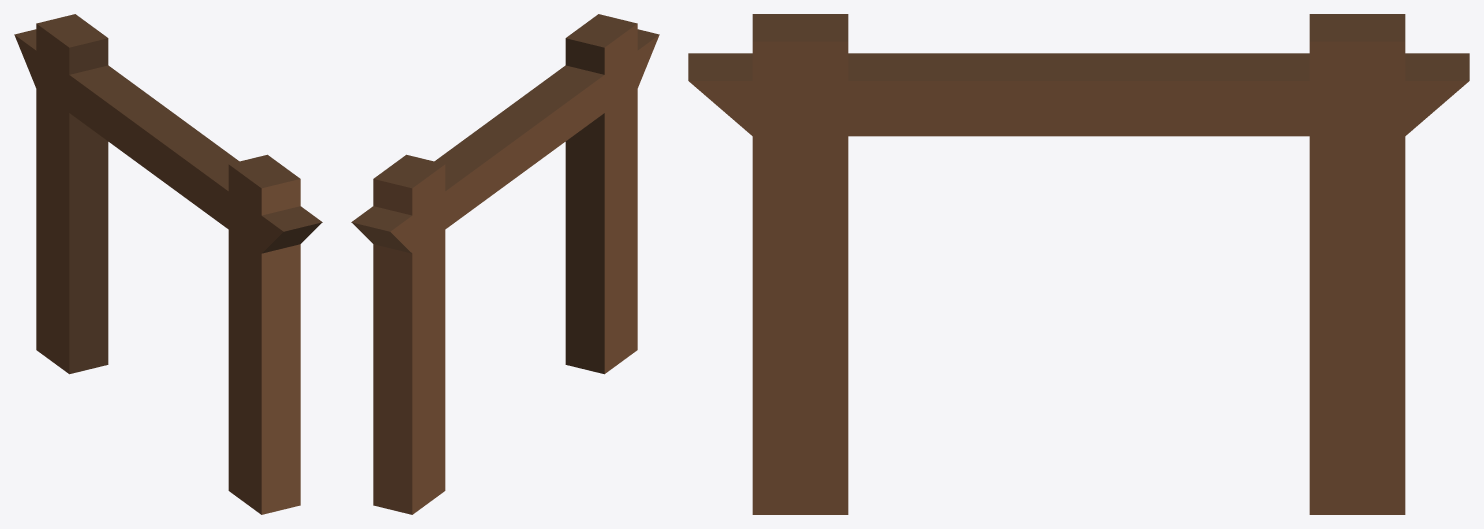
The model's file is valla2.fbx.
3 views of the same model, side by side, from view 1: azimuth 30°, elevation 25°; view 2: azimuth 150°, elevation 25°; view 3: azimuth 270°, elevation 25° (orthographic). The views are drawn at different scales.
Visible parts, largest first — view 1: fenceUpDown.001; view 2: fenceUpDown.001; view 3: fenceUpDown.001.
Part boxes in pixels (x1,y1,x2,y2): fenceUpDown.001: (14,14,322,514); fenceUpDown.001: (351,14,659,514); fenceUpDown.001: (688,14,1469,514).
Size of the model in its own units: 30 by 240 by 359.
Materials: 1 (1 with a texture image).
